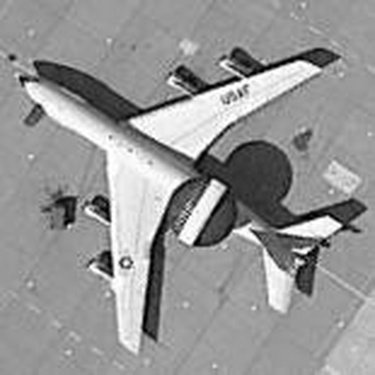airplane: (3, 39, 350, 355)
